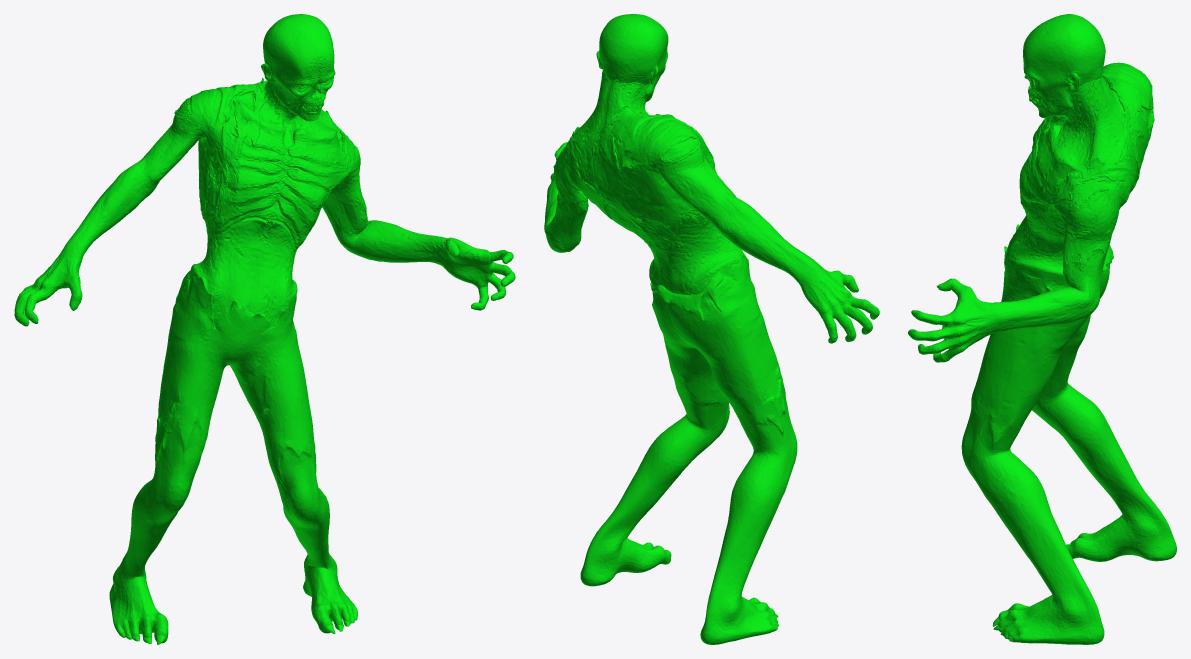
The model's file is zombieCorrecto.glb.
The picture shows the model from 3 angles, left to right: view 1: azimuth 30°, elevation 25°; view 2: azimuth 150°, elevation 25°; view 3: azimuth 270°, elevation 25°; orthographic projection. The views are drawn at different scales.
Visible parts, largest first — view 1: ZombieCorrecto; view 2: ZombieCorrecto; view 3: ZombieCorrecto.
Boxes of the visible parts, x1,y1,x2,y2 form: ZombieCorrecto: (14, 14, 515, 644); ZombieCorrecto: (544, 14, 879, 644); ZombieCorrecto: (908, 14, 1176, 644).
Size of the model in its own units: 23.78 by 32.65 by 13.04.
